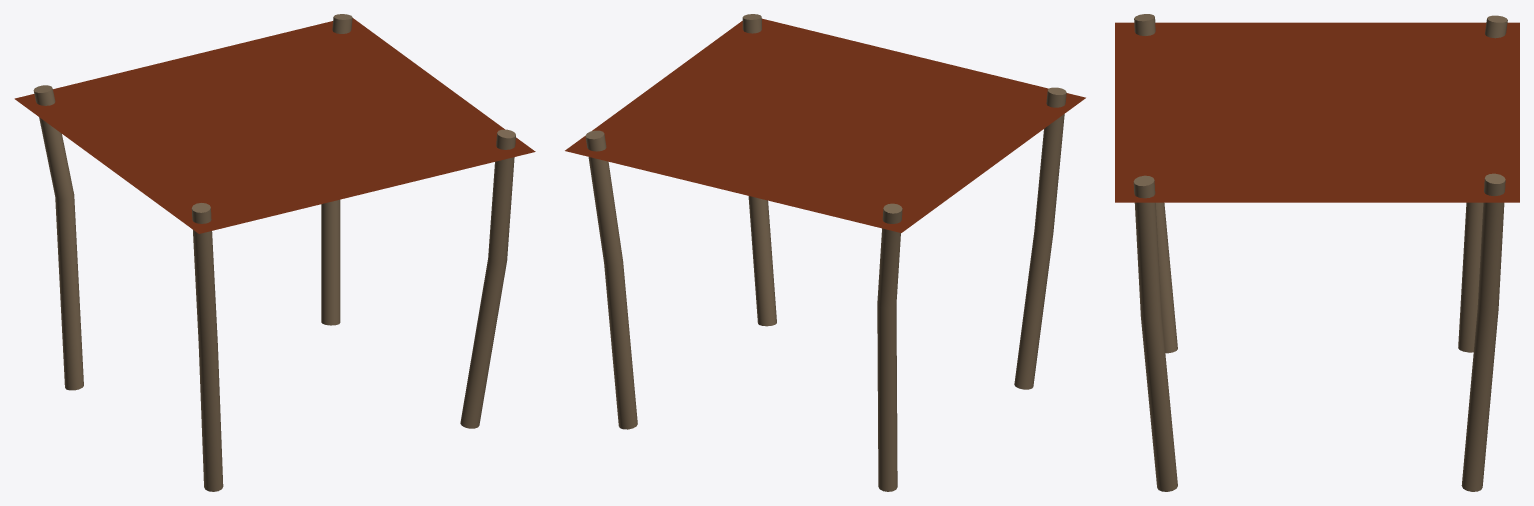
Rendered from canvas_cover.FBX.
3 views of the same model, side by side, from view 1: azimuth 30°, elevation 25°; view 2: azimuth 150°, elevation 25°; view 3: azimuth 270°, elevation 25° (orthographic). The views are drawn at different scales.
Visible parts, largest first — view 1: canvas, leg_02, leg_01, leg_00, leg_03; view 2: canvas, leg_03, leg_00, leg_01, leg_02; view 3: canvas, leg_02, leg_03, leg_01, leg_00.
Boxes of the visible parts, <box> form: canvas: <box>14,18,535,233</box>; leg_02: <box>460,129,515,428</box>; leg_01: <box>33,85,83,390</box>; leg_00: <box>191,203,223,491</box>; leg_03: <box>321,14,352,325</box>; canvas: <box>565,18,1085,232</box>; leg_03: <box>585,130,637,429</box>; leg_00: <box>1014,87,1066,389</box>; leg_01: <box>877,203,902,491</box>; leg_02: <box>742,14,776,326</box>; canvas: <box>1115,22,1519,202</box>; leg_02: <box>1133,175,1177,491</box>; leg_03: <box>1461,173,1505,491</box>; leg_01: <box>1458,15,1507,352</box>; leg_00: <box>1134,14,1177,353</box>.
Size of the model in its own units: 265 by 221 by 252.
